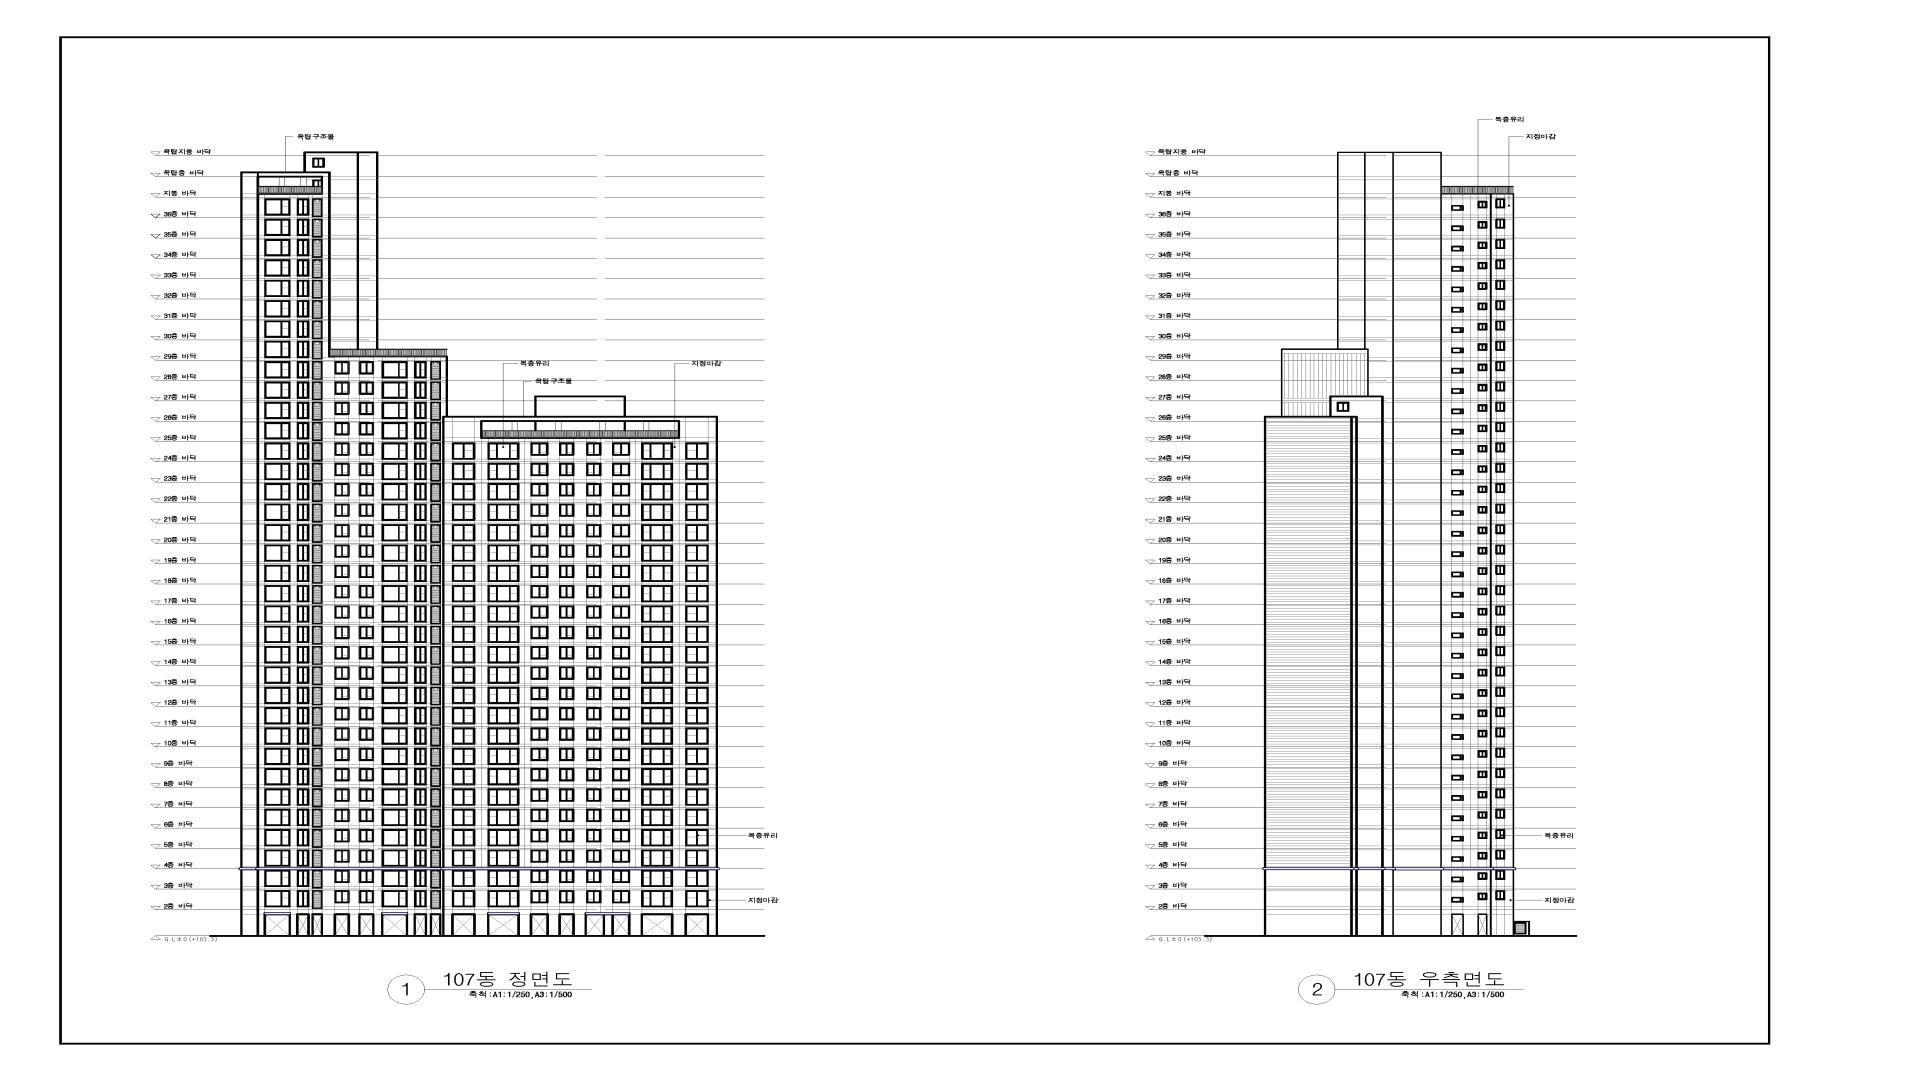door: (487, 914, 520, 936), (641, 914, 674, 936), (264, 914, 291, 936), (381, 914, 409, 936), (451, 913, 476, 936), (684, 914, 709, 936), (584, 914, 605, 936), (611, 914, 630, 936), (530, 914, 549, 936), (334, 913, 351, 936), (558, 913, 575, 936), (359, 913, 375, 936), (295, 913, 310, 936), (414, 913, 427, 936), (1451, 914, 1464, 936), (311, 913, 323, 936), (430, 913, 442, 936), (1477, 914, 1487, 936)
wall: (240, 152, 717, 936), (1263, 152, 1514, 936)
window: (641, 584, 674, 603), (641, 727, 673, 745), (641, 666, 673, 684), (641, 483, 673, 501), (641, 442, 673, 460), (488, 625, 520, 644), (488, 524, 520, 542), (641, 870, 674, 887), (641, 849, 674, 866), (641, 504, 674, 521), (641, 890, 674, 907), (487, 890, 520, 907), (641, 829, 673, 847), (641, 808, 673, 825), (641, 789, 673, 806), (641, 769, 673, 786), (641, 748, 673, 765), (641, 707, 673, 724), (641, 687, 673, 704), (641, 646, 673, 663), (641, 626, 673, 644), (641, 605, 673, 622), (641, 564, 673, 582), (641, 545, 673, 562), (641, 524, 673, 541), (641, 463, 673, 480), (488, 870, 520, 887), (488, 849, 520, 866), (488, 829, 520, 847), (488, 808, 520, 825), (488, 789, 520, 806), (488, 769, 520, 786), (488, 748, 520, 765), (488, 728, 520, 745), (488, 707, 520, 724), (488, 687, 520, 704), (488, 666, 520, 683), (488, 646, 520, 663), (488, 605, 520, 622), (488, 585, 520, 603), (488, 564, 520, 582), (488, 545, 520, 562), (488, 504, 520, 521), (488, 483, 520, 500), (488, 463, 520, 480), (488, 443, 520, 460), (381, 808, 407, 827), (381, 767, 407, 786), (381, 625, 407, 644), (381, 524, 407, 542), (381, 483, 407, 501), (264, 666, 290, 684), (264, 524, 290, 542), (264, 198, 290, 216), (264, 849, 291, 866), (264, 890, 290, 907), (264, 870, 290, 887), (264, 829, 290, 847), (381, 789, 407, 806), (381, 748, 407, 765), (381, 728, 407, 745), (381, 707, 407, 724), (381, 687, 407, 704), (381, 666, 407, 683), (381, 646, 407, 663), (381, 605, 407, 622), (381, 585, 407, 603), (381, 564, 407, 582), (381, 545, 407, 562), (381, 504, 407, 521), (381, 463, 407, 480), (381, 443, 407, 460), (381, 422, 407, 439), (381, 402, 407, 419), (381, 381, 407, 398), (381, 361, 407, 378), (264, 808, 290, 825), (264, 789, 290, 806), (264, 769, 290, 786), (264, 748, 290, 765), (264, 728, 290, 745), (264, 707, 290, 724), (264, 687, 290, 704), (264, 646, 290, 663), (264, 626, 290, 644), (264, 605, 290, 622), (264, 585, 290, 603), (264, 564, 290, 582), (264, 545, 290, 562), (264, 463, 290, 480), (264, 483, 290, 500), (264, 504, 290, 521), (264, 443, 290, 460), (264, 422, 290, 439), (264, 402, 290, 419), (264, 381, 290, 398), (264, 361, 290, 378), (264, 342, 290, 359), (264, 320, 290, 338), (264, 301, 290, 318), (264, 280, 290, 297), (264, 260, 290, 277), (264, 239, 290, 256), (264, 219, 290, 236), (381, 890, 407, 907), (381, 869, 407, 886), (381, 849, 407, 866), (381, 829, 407, 847), (452, 767, 475, 786), (452, 625, 475, 644), (452, 442, 475, 460), (686, 767, 708, 786), (686, 625, 708, 644), (686, 524, 708, 542), (686, 442, 708, 460), (452, 870, 476, 887), (452, 646, 476, 663), (452, 585, 476, 603), (684, 808, 708, 825), (684, 748, 708, 765), (684, 707, 708, 724), (684, 646, 708, 663), (684, 585, 708, 603), (684, 504, 708, 521), (684, 483, 708, 500), (452, 890, 475, 907), (452, 849, 475, 866), (452, 829, 475, 847), (452, 808, 475, 825), (452, 789, 475, 806), (452, 748, 475, 765), (452, 728, 475, 745), (452, 707, 475, 724), (452, 687, 475, 704), (452, 666, 475, 683), (452, 605, 475, 622), (452, 564, 475, 582), (452, 545, 475, 562), (452, 524, 475, 541), (452, 504, 475, 521), (452, 483, 475, 500), (452, 463, 475, 480), (686, 890, 708, 907), (686, 870, 708, 887), (686, 849, 708, 866), (686, 829, 708, 847), (686, 789, 708, 806), (686, 728, 708, 745), (686, 687, 708, 704), (686, 667, 708, 684), (686, 605, 708, 622), (686, 564, 708, 582), (686, 545, 708, 562), (686, 463, 708, 480), (612, 666, 630, 680), (530, 524, 549, 538), (530, 442, 549, 456), (297, 808, 310, 827), (297, 666, 310, 684), (612, 687, 630, 700), (612, 646, 630, 659), (612, 626, 630, 640), (612, 605, 630, 618), (612, 585, 630, 599), (612, 564, 630, 578), (612, 545, 630, 558), (612, 524, 630, 537), (612, 504, 630, 517), (612, 483, 630, 496), (612, 463, 630, 476), (612, 442, 630, 455), (414, 381, 427, 400), (612, 890, 630, 903), (530, 890, 549, 903), (530, 870, 549, 884), (530, 849, 549, 862), (530, 829, 549, 843), (530, 808, 549, 822), (530, 789, 549, 802), (530, 769, 549, 782), (530, 748, 549, 761), (530, 728, 549, 741), (530, 707, 549, 720), (530, 687, 549, 700), (530, 666, 549, 679), (530, 646, 549, 659), (530, 626, 549, 640), (530, 605, 549, 618), (530, 585, 549, 599), (530, 564, 549, 578), (530, 545, 549, 558), (530, 504, 549, 517), (530, 483, 549, 496), (530, 463, 549, 476), (612, 870, 630, 884), (612, 849, 630, 862), (612, 829, 630, 843), (612, 808, 630, 822), (612, 789, 630, 802), (612, 769, 630, 782), (612, 748, 630, 761), (612, 728, 630, 741), (612, 707, 630, 720), (297, 625, 310, 644), (297, 198, 310, 216), (311, 808, 323, 828), (311, 767, 323, 787), (311, 666, 323, 686), (311, 625, 323, 645), (311, 564, 323, 584), (311, 524, 323, 543), (311, 483, 323, 502), (311, 340, 323, 360), (311, 239, 323, 258), (311, 198, 323, 218), (430, 625, 442, 645), (359, 767, 375, 782), (359, 666, 375, 680), (359, 524, 375, 538), (359, 483, 375, 497), (334, 666, 349, 680), (334, 524, 349, 538), (559, 666, 575, 680), (297, 890, 310, 907), (297, 870, 310, 887), (297, 849, 310, 866), (297, 829, 310, 847), (297, 789, 310, 806), (297, 769, 310, 786), (297, 748, 310, 765), (297, 728, 310, 745), (297, 707, 310, 724), (297, 687, 310, 704), (297, 646, 310, 663), (414, 666, 427, 683), (414, 646, 427, 663), (414, 626, 427, 644), (414, 605, 427, 622), (414, 564, 427, 582), (414, 545, 427, 562), (414, 524, 427, 541), (414, 504, 427, 521), (414, 483, 427, 500), (414, 463, 427, 480), (414, 443, 427, 460), (414, 422, 427, 439), (414, 402, 427, 419), (414, 361, 427, 378), (297, 605, 310, 622), (297, 585, 310, 603), (297, 564, 310, 582), (297, 545, 310, 562), (297, 525, 310, 542), (297, 504, 310, 521), (297, 483, 310, 500), (297, 463, 310, 480), (297, 443, 310, 460), (297, 422, 310, 439), (297, 402, 310, 419), (297, 381, 310, 398), (297, 361, 310, 378), (297, 340, 310, 357), (297, 320, 310, 338), (297, 301, 310, 318), (297, 280, 310, 297), (297, 260, 310, 277), (297, 239, 310, 256), (297, 219, 310, 236), (414, 890, 427, 907), (414, 870, 427, 887), (414, 849, 427, 866), (414, 829, 427, 847), (414, 808, 427, 825), (414, 789, 427, 806), (414, 767, 427, 785), (414, 748, 427, 765), (414, 728, 427, 745), (414, 707, 427, 724), (414, 687, 427, 704), (311, 890, 323, 909), (311, 870, 323, 889), (311, 849, 323, 868), (311, 829, 323, 848), (311, 789, 323, 807), (311, 748, 323, 766), (311, 728, 323, 746), (311, 707, 323, 725), (311, 687, 323, 705), (311, 646, 323, 665), (311, 605, 323, 624), (311, 585, 323, 604), (311, 545, 323, 563), (311, 504, 323, 522), (311, 463, 323, 481), (311, 422, 323, 440), (311, 402, 323, 421), (311, 381, 323, 400), (311, 361, 323, 380), (311, 320, 323, 339), (311, 301, 323, 319), (311, 280, 323, 298), (311, 260, 323, 278), (311, 219, 323, 237), (430, 829, 442, 848), (311, 443, 323, 462), (334, 504, 349, 517), (334, 483, 349, 496), (334, 463, 349, 476), (334, 442, 349, 455), (334, 422, 349, 435), (334, 402, 349, 415), (334, 381, 349, 394), (334, 361, 349, 375), (359, 890, 375, 903), (359, 870, 375, 884), (359, 849, 375, 862), (359, 829, 375, 843), (359, 808, 375, 822), (359, 789, 375, 802), (359, 748, 375, 761), (359, 728, 375, 741), (359, 707, 375, 720), (359, 687, 375, 700), (359, 646, 375, 659), (359, 626, 375, 640), (359, 605, 375, 618), (359, 585, 375, 599), (359, 564, 375, 578), (359, 545, 375, 558), (359, 504, 375, 517), (359, 463, 375, 476), (359, 443, 375, 456), (359, 422, 375, 435), (359, 402, 375, 415), (359, 381, 375, 394), (359, 361, 375, 375), (334, 890, 349, 903), (334, 870, 349, 884), (334, 849, 349, 862), (334, 829, 349, 843), (334, 808, 349, 822), (334, 789, 349, 802), (334, 769, 349, 782), (334, 748, 349, 761), (334, 728, 349, 741), (334, 707, 349, 720), (334, 687, 349, 700), (334, 646, 349, 659), (334, 626, 349, 640), (334, 605, 349, 618), (334, 585, 349, 599), (334, 564, 349, 578), (334, 545, 349, 558), (559, 646, 575, 659), (559, 626, 575, 640), (559, 605, 575, 618), (559, 585, 575, 599), (559, 564, 575, 578), (559, 545, 575, 558), (559, 524, 575, 537), (559, 504, 575, 517), (559, 463, 575, 476), (559, 442, 575, 455), (585, 890, 601, 903), (585, 870, 601, 884), (585, 849, 601, 862), (585, 829, 601, 843), (585, 808, 601, 822), (585, 789, 601, 802), (585, 769, 601, 782), (585, 748, 601, 761), (585, 707, 601, 720), (585, 666, 601, 679), (585, 646, 601, 659), (585, 626, 601, 640), (585, 585, 601, 599), (585, 564, 601, 578), (585, 545, 601, 558), (585, 504, 601, 517), (585, 483, 601, 496), (585, 463, 601, 476), (585, 443, 601, 456), (430, 808, 440, 828), (430, 767, 440, 787), (430, 666, 440, 686), (430, 564, 440, 584), (430, 524, 440, 543), (430, 483, 440, 502), (430, 442, 440, 462), (559, 890, 575, 903), (559, 870, 575, 884), (559, 849, 575, 862), (559, 829, 575, 843), (559, 808, 575, 822), (559, 789, 575, 802), (559, 769, 575, 782), (559, 748, 575, 761), (559, 728, 575, 741), (559, 707, 575, 720), (559, 687, 575, 700), (414, 585, 426, 603), (430, 890, 440, 909), (430, 870, 440, 889), (430, 849, 440, 868), (430, 789, 440, 807), (430, 748, 440, 766), (430, 728, 440, 746), (430, 707, 440, 725), (430, 687, 440, 705), (430, 646, 440, 665), (430, 605, 440, 624), (430, 585, 440, 604), (430, 545, 440, 563), (430, 504, 440, 522), (430, 463, 440, 481), (430, 422, 440, 440), (430, 402, 440, 421), (430, 381, 440, 400), (430, 361, 440, 380), (587, 728, 601, 741), (587, 687, 601, 700), (587, 605, 601, 618), (559, 484, 575, 496), (585, 525, 601, 537), (1514, 922, 1527, 935), (1495, 890, 1506, 901), (1495, 869, 1506, 880), (1495, 849, 1506, 860), (1495, 828, 1506, 839), (1495, 789, 1506, 799), (1495, 767, 1506, 778), (1495, 748, 1506, 758), (1495, 727, 1506, 737), (1495, 707, 1506, 717), (1495, 666, 1506, 676), (1495, 646, 1506, 657), (1495, 625, 1506, 636), (1495, 605, 1506, 616), (1495, 585, 1506, 596), (1495, 564, 1506, 575), (1495, 545, 1506, 555), (1495, 524, 1506, 534), (1495, 504, 1506, 514), (1495, 483, 1506, 493), (1495, 442, 1506, 452), (1495, 422, 1506, 433), (1495, 381, 1506, 392), (1495, 361, 1506, 372), (1495, 320, 1506, 331), (1495, 299, 1506, 310), (1495, 280, 1506, 290), (1495, 258, 1506, 269), (1495, 239, 1506, 249), (313, 158, 324, 167), (1337, 402, 1349, 411), (1495, 808, 1505, 819), (1495, 463, 1505, 473), (1495, 402, 1506, 411), (1495, 340, 1505, 351), (1495, 219, 1505, 229), (1495, 198, 1505, 208), (1451, 774, 1464, 781), (1451, 754, 1464, 761), (1451, 713, 1464, 720), (1451, 673, 1464, 679), (1451, 612, 1464, 618), (1451, 571, 1464, 578), (1451, 489, 1464, 496), (1451, 448, 1464, 455), (1451, 429, 1464, 435), (1451, 388, 1464, 394), (1451, 347, 1464, 353), (1451, 327, 1464, 334), (1451, 286, 1464, 293), (1451, 245, 1464, 252), (1451, 897, 1464, 903), (1451, 856, 1464, 862), (1451, 815, 1464, 822), (1495, 687, 1505, 696), (313, 179, 323, 187), (1477, 893, 1487, 901), (1477, 872, 1487, 880), (1477, 852, 1487, 860), (1477, 831, 1487, 839), (1477, 811, 1487, 819), (1477, 791, 1487, 799), (1477, 770, 1487, 778), (1477, 750, 1487, 758), (1477, 729, 1487, 737), (1477, 709, 1487, 717), (1477, 669, 1487, 676), (1477, 649, 1487, 657), (1477, 628, 1487, 636), (1477, 608, 1487, 616), (1477, 567, 1487, 575), (1477, 547, 1487, 555), (1477, 526, 1487, 534), (1477, 506, 1487, 514), (1477, 485, 1487, 493), (1477, 465, 1487, 473), (1477, 444, 1487, 452), (1477, 425, 1487, 433), (1477, 404, 1487, 411), (1477, 384, 1487, 392), (1477, 343, 1487, 351), (1477, 323, 1487, 331), (1477, 302, 1487, 310), (1477, 282, 1487, 290), (1477, 261, 1487, 269), (1477, 241, 1487, 249), (1477, 222, 1487, 229), (1477, 200, 1487, 208), (1451, 795, 1464, 800), (1451, 735, 1464, 740), (1451, 694, 1464, 699), (1451, 653, 1464, 658), (1451, 633, 1464, 638), (1451, 592, 1464, 597), (1451, 551, 1464, 556), (1451, 531, 1464, 537), (1451, 510, 1464, 516), (1451, 469, 1464, 475), (1451, 409, 1464, 414), (1451, 368, 1464, 373), (1451, 307, 1464, 313), (1451, 266, 1464, 272), (1451, 225, 1464, 231), (1451, 206, 1464, 211), (1477, 690, 1487, 696), (1477, 588, 1487, 595), (1477, 364, 1487, 371), (1451, 877, 1464, 882), (1451, 836, 1464, 841)
